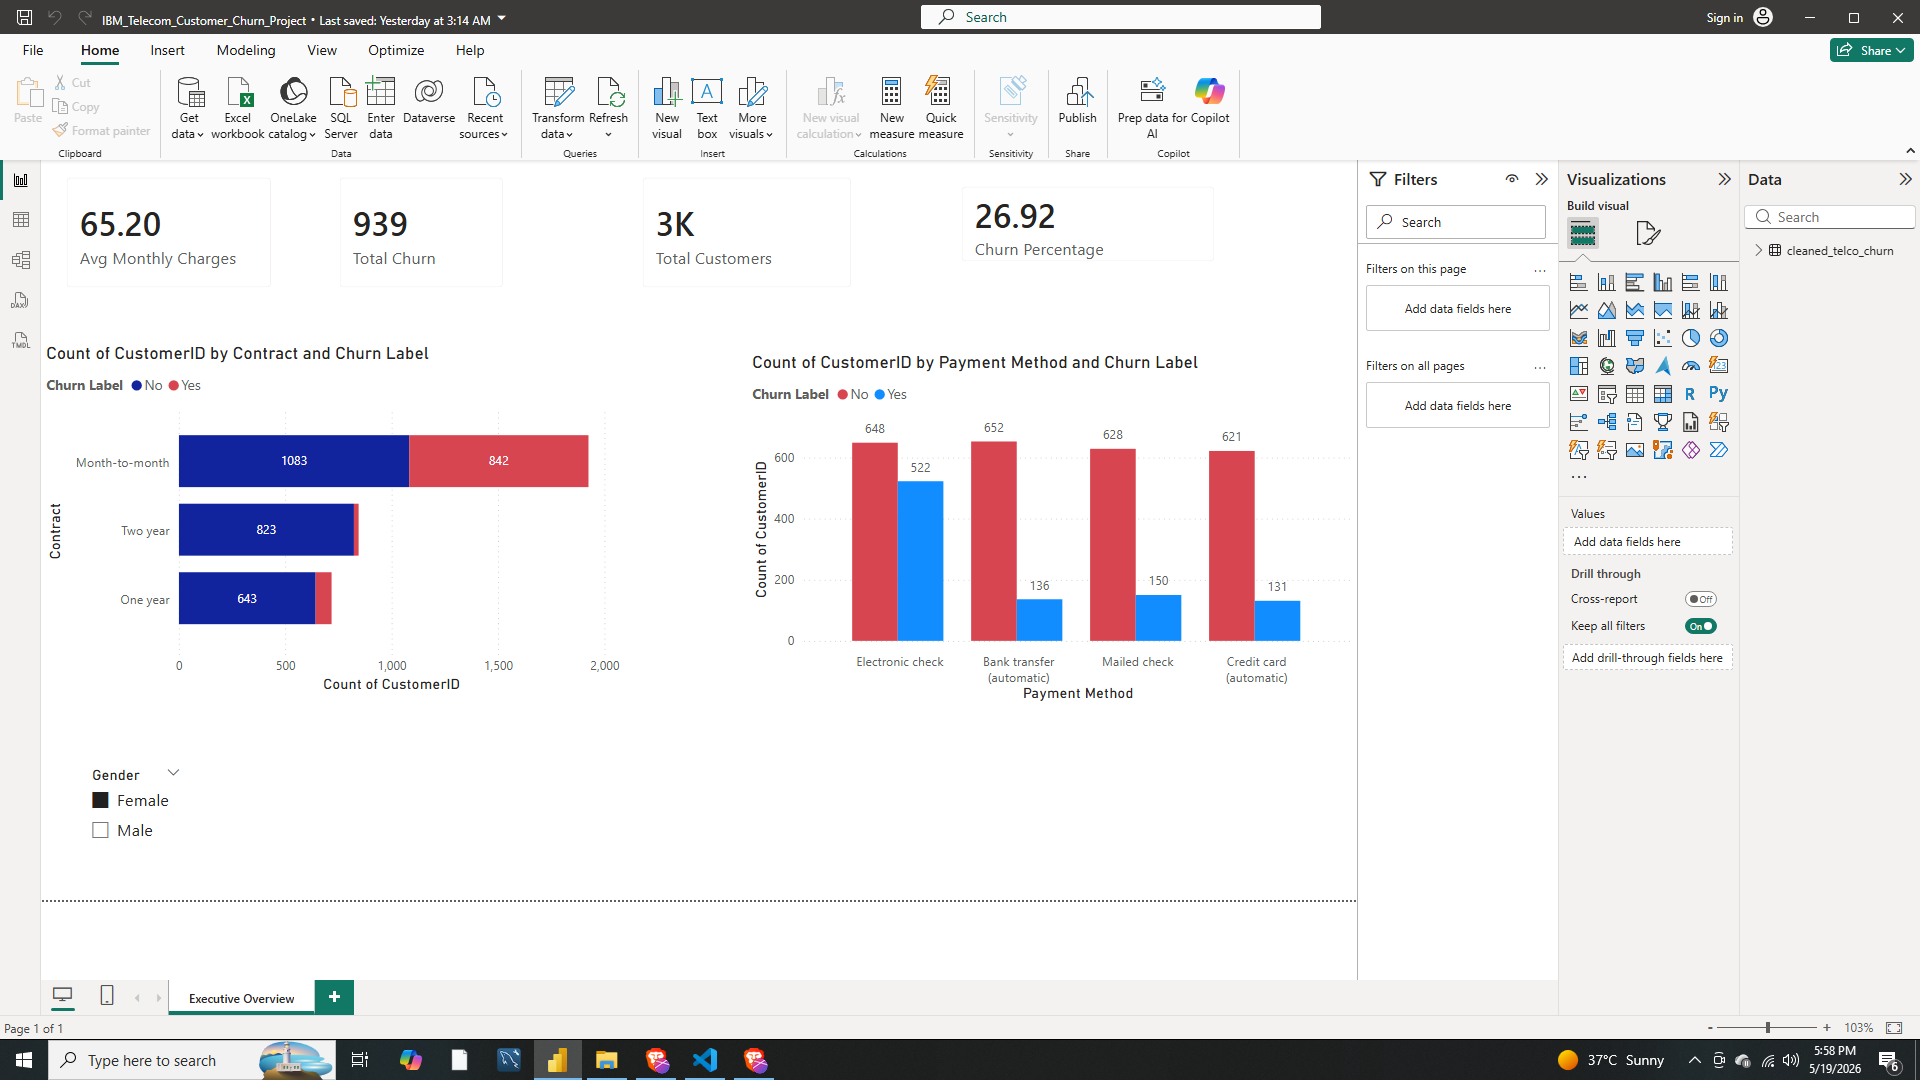

The dashboard page shown, as its layout file describes it:
{"tool":"powerbi","page":{"name":"Executive Overview","canvas":[1280,720],"ordinal":0},"visuals":[{"type":"cardVisual","fields":{"Data":["cleaned_telco_churn.Avg Monthly Charges"]},"box":[7.8,0,233.4,141],"z":1},{"type":"cardVisual","fields":{"Data":["cleaned_telco_churn.Total Churn"]},"box":[273.3,0,193.6,141],"z":3},{"type":"cardVisual","fields":{"Data":["cleaned_telco_churn.Churn Percentage"]},"box":[878.3,8.8,280.1,108],"z":4},{"type":"cardVisual","fields":{"Data":["cleaned_telco_churn.Total Customers"]},"box":[568,0,237.3,141],"z":5},{"type":"barChart","fields":{"Category":["cleaned_telco_churn.Contract"],"Series":["cleaned_telco_churn.Churn Label"],"Y":["CountNonNull(cleaned_telco_churn.CustomerID)"]},"box":[0,178,568,345.3],"z":6},{"type":"clusteredColumnChart","fields":{"Category":["cleaned_telco_churn.Payment Method"],"Series":["cleaned_telco_churn.Churn Label"],"Y":["CountNonNull(cleaned_telco_churn.CustomerID)"]},"box":[686.7,186.7,593.3,345.3],"z":7},{"type":"slicer","fields":{"Values":["cleaned_telco_churn.Gender"]},"box":[37,584.6,110.9,88.5],"z":8}]}

Visuals, with their boxes on the page's 1280x720 design canvas (x1, y1, x2, y2). These are canvas units, not pixel positions in the 1920x1080 screenshot, which may show the page scaled, cropped or inside an application window:
cardVisual - cleaned_telco_churn.Avg Monthly Charges: 8/0/241/141
cardVisual - cleaned_telco_churn.Total Churn: 273/0/467/141
cardVisual - cleaned_telco_churn.Churn Percentage: 878/9/1158/117
cardVisual - cleaned_telco_churn.Total Customers: 568/0/805/141
barChart - cleaned_telco_churn.Contract x cleaned_telco_churn.Churn Label: 0/178/568/523
clusteredColumnChart - cleaned_telco_churn.Payment Method x cleaned_telco_churn.Churn Label: 687/187/1280/532
slicer - cleaned_telco_churn.Gender: 37/585/148/673
